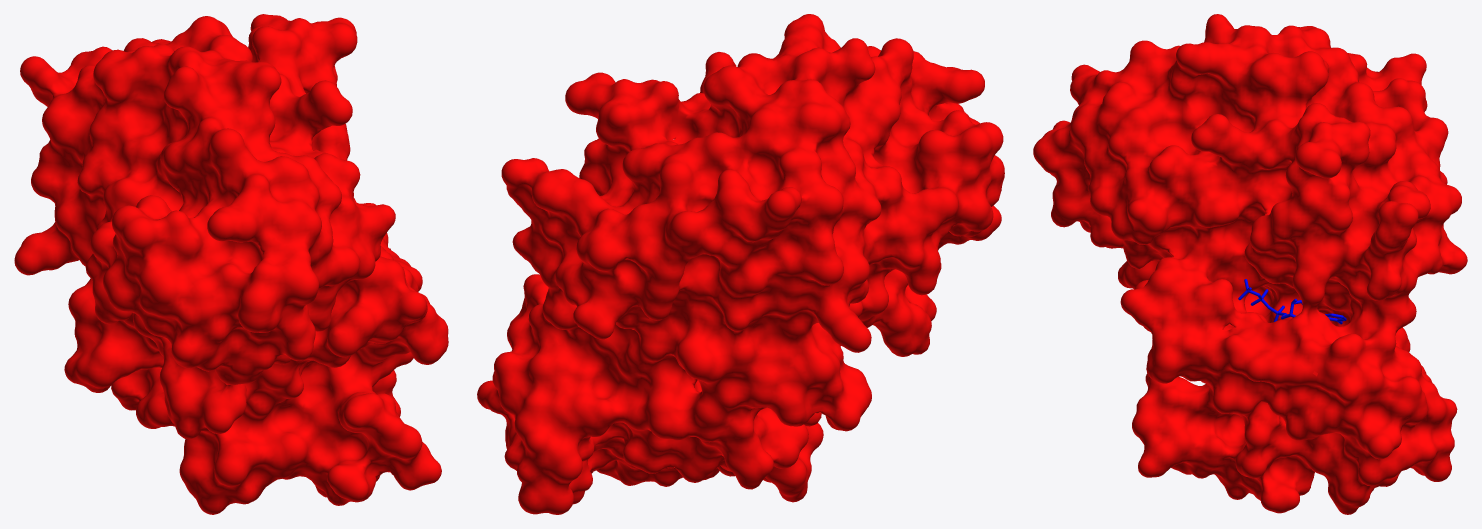
File: alpha_surface.glb
The picture shows the model from 3 angles, left to right: view 1: azimuth 30°, elevation 25°; view 2: azimuth 150°, elevation 25°; view 3: azimuth 270°, elevation 25°; orthographic projection. The views are drawn at different scales.
Visible parts, largest first — view 1: fold_proteina_03_model_0.cif_A SES surface; view 2: fold_proteina_03_model_0.cif_A SES surface; view 3: fold_proteina_03_model_0.cif_A SES surface, bonds.
Boxes of the visible parts, box(x1,y1,x2,y2) form: fold_proteina_03_model_0.cif_A SES surface: box(14, 14, 448, 514); fold_proteina_03_model_0.cif_A SES surface: box(477, 14, 1004, 514); fold_proteina_03_model_0.cif_A SES surface: box(1033, 14, 1467, 514); bonds: box(1239, 279, 1346, 324).
Bounding box in the file's own units: 50.64 × 58.07 × 55.19.
